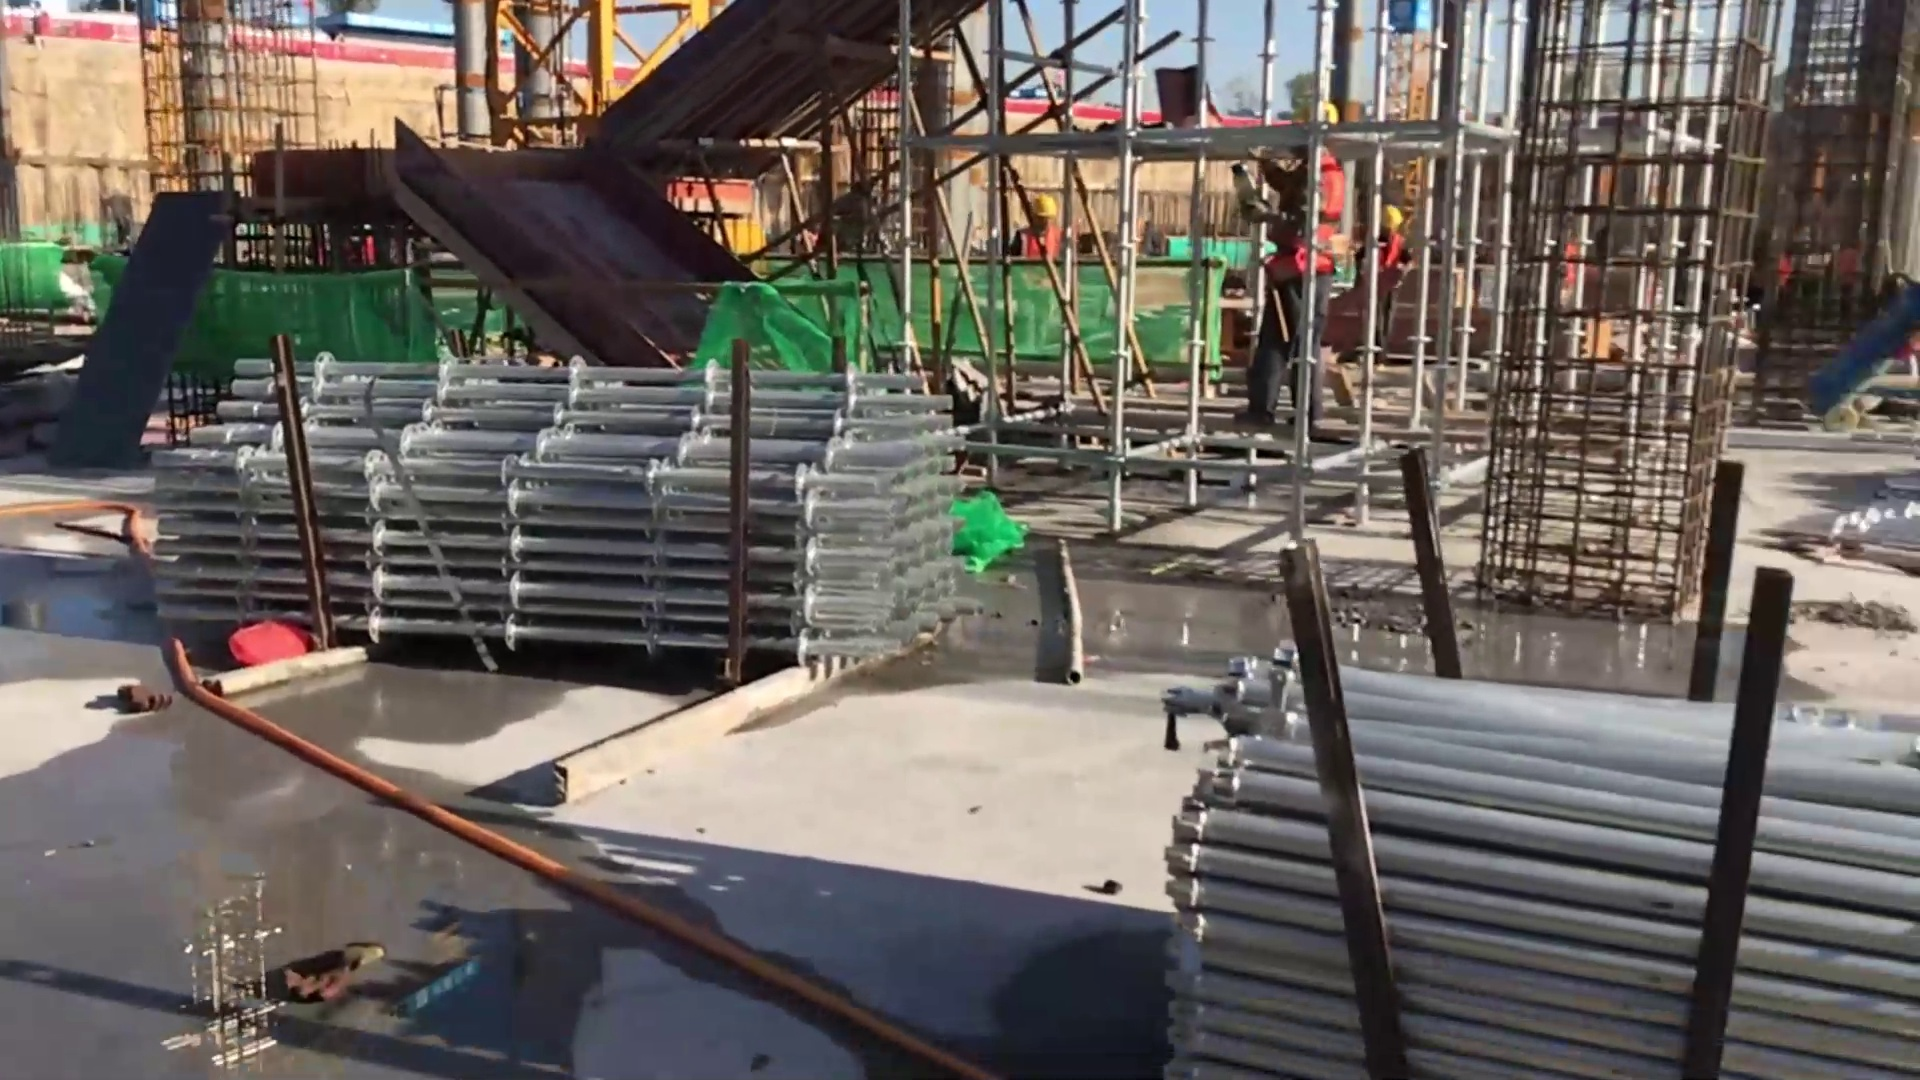helmet: (1029, 191, 1052, 215)
person: (1244, 93, 1355, 416), (1366, 196, 1409, 364), (1006, 197, 1065, 254)
scaffold: (1173, 662, 1920, 1079), (151, 350, 955, 650)
vest: (1278, 150, 1345, 278)
